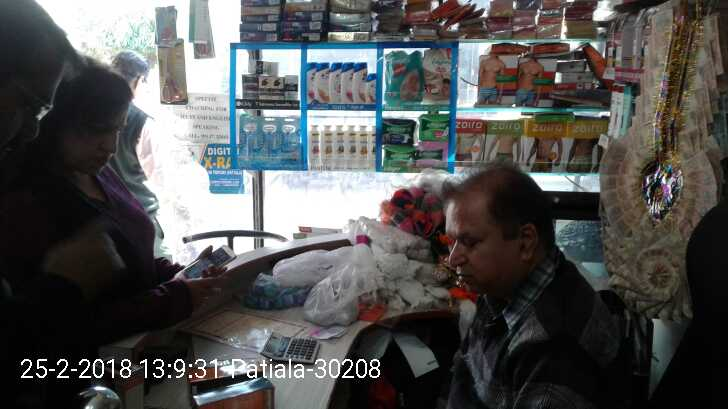venus: (279, 117, 304, 167), (237, 117, 260, 159), (260, 117, 279, 167)
